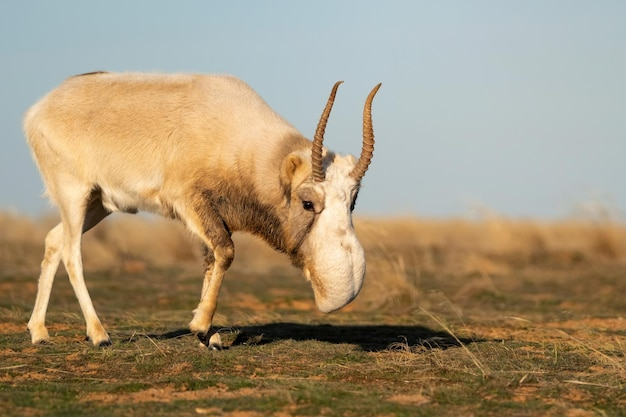saiga: (23, 67, 383, 348)
